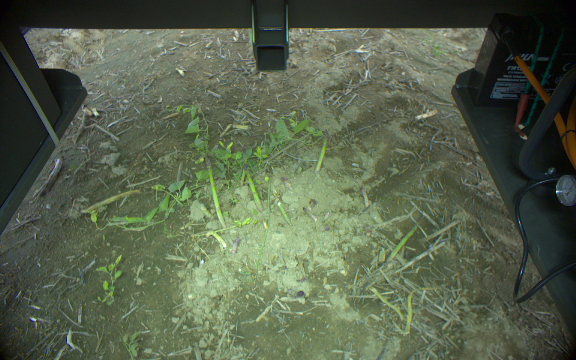aspa: (379, 214, 425, 268), (199, 152, 226, 230), (403, 284, 437, 333), (365, 285, 402, 324), (240, 161, 261, 212), (315, 129, 331, 173), (203, 229, 226, 248), (276, 200, 292, 227)
